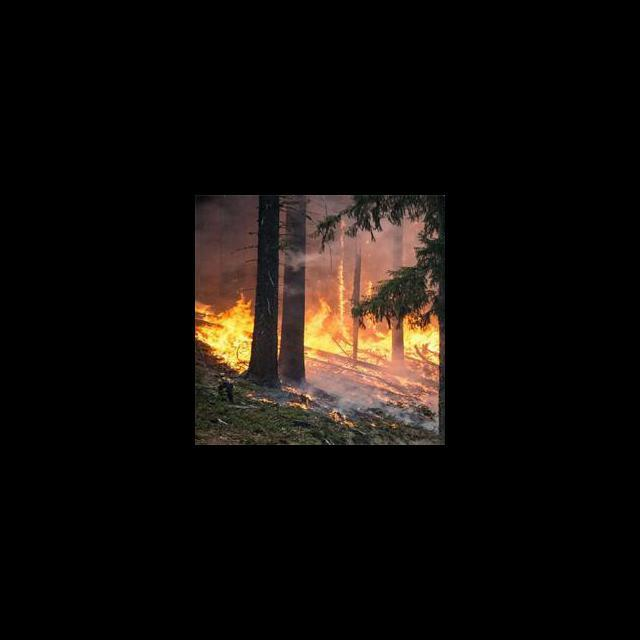Fire: (306, 288, 440, 376), (195, 290, 255, 375), (283, 384, 315, 412), (327, 410, 354, 430), (247, 391, 273, 404), (389, 420, 401, 431), (368, 420, 379, 429)
